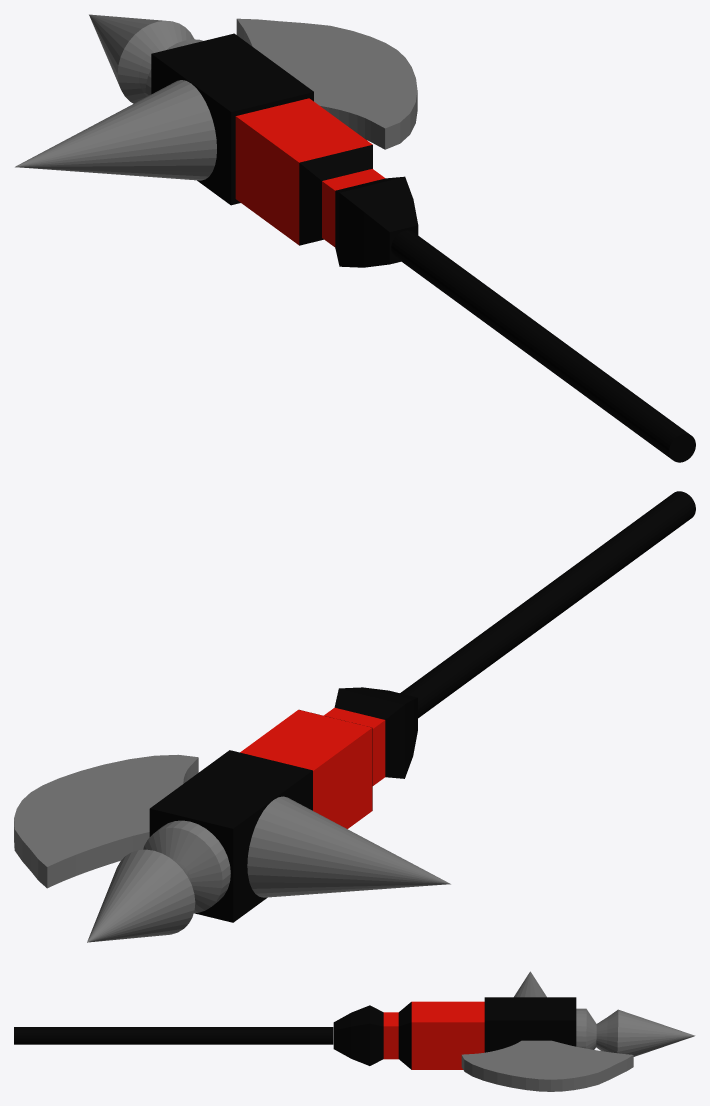
File: hallebarde (1).fbx
3 views of the same model, one above another, from view 1: azimuth 30°, elevation 25°; view 2: azimuth 150°, elevation 25°; view 3: azimuth 270°, elevation 25° (orthographic). The views are drawn at different scales.
Parts seen in each view (by area): view 1: Cube, Circle, Cylinder, Cylinder.001, Cylinder.002; view 2: Cube, Circle, Cylinder.001, Cylinder.002, Cylinder; view 3: Cube, Circle, Cylinder, Cylinder.002, Cylinder.001.
Boxes of the visible parts, box(x1,y1,x2,y2) form: Cube: box(151, 33, 418, 267); Circle: box(236, 18, 417, 149); Cylinder: box(391, 230, 695, 462); Cylinder.001: box(15, 80, 216, 180); Cylinder.002: box(89, 14, 202, 103); Cube: box(149, 687, 417, 922); Circle: box(14, 754, 198, 888); Cylinder.001: box(247, 796, 450, 897); Cylinder.002: box(87, 820, 230, 942); Cylinder: box(400, 491, 695, 718); Cube: box(333, 997, 576, 1069); Circle: box(461, 1040, 633, 1091); Cylinder: box(14, 1027, 333, 1044); Cylinder.002: box(576, 1008, 695, 1056); Cylinder.001: box(514, 971, 546, 997).
Bounding box in the file's own units: 449 × 100 × 1150.
